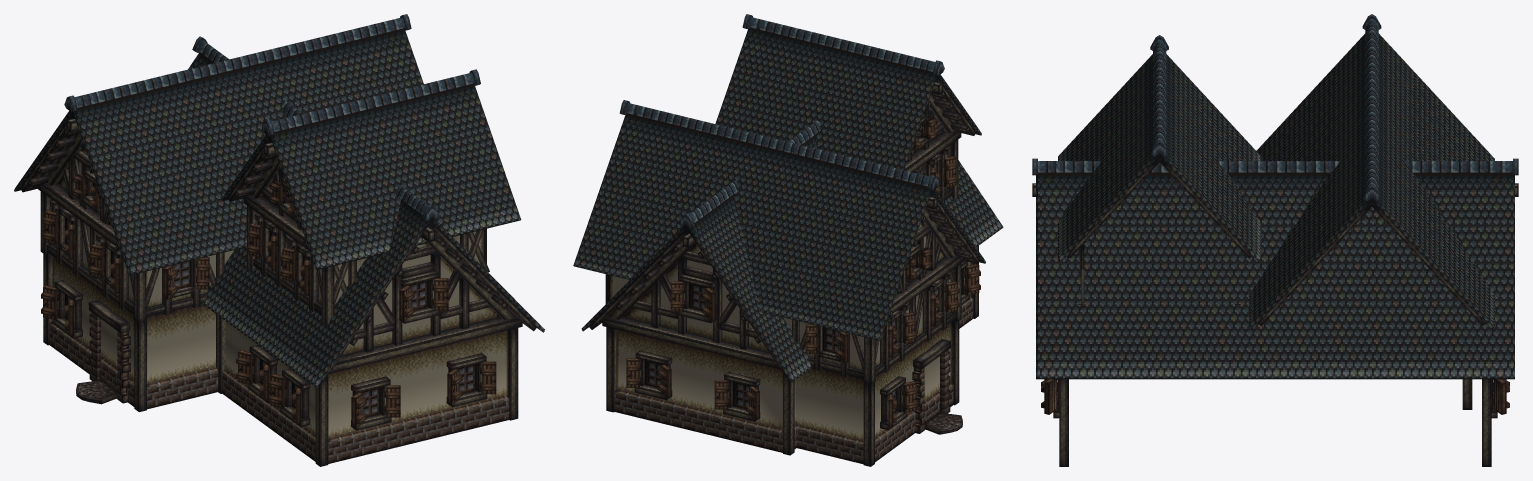
The model's file is EnvBdgMD_Mount_A_Outdoor_House_RichMan_A.fbx.
The picture shows the model from 3 angles, left to right: view 1: azimuth 30°, elevation 25°; view 2: azimuth 150°, elevation 25°; view 3: azimuth 270°, elevation 25°; orthographic projection. The views are drawn at different scales.
Visible parts, largest first — view 1: EnvBdgMD_Mount_A_Outdoor_House_RichMan_A; view 2: EnvBdgMD_Mount_A_Outdoor_House_RichMan_A; view 3: EnvBdgMD_Mount_A_Outdoor_House_RichMan_A.
Boxes of the visible parts, x1,y1,x2,y2 form: EnvBdgMD_Mount_A_Outdoor_House_RichMan_A: (14,14,544,466); EnvBdgMD_Mount_A_Outdoor_House_RichMan_A: (573,14,1003,466); EnvBdgMD_Mount_A_Outdoor_House_RichMan_A: (1032,14,1518,466).
Bounding box in the file's own units: 1085 × 936 × 1260.
